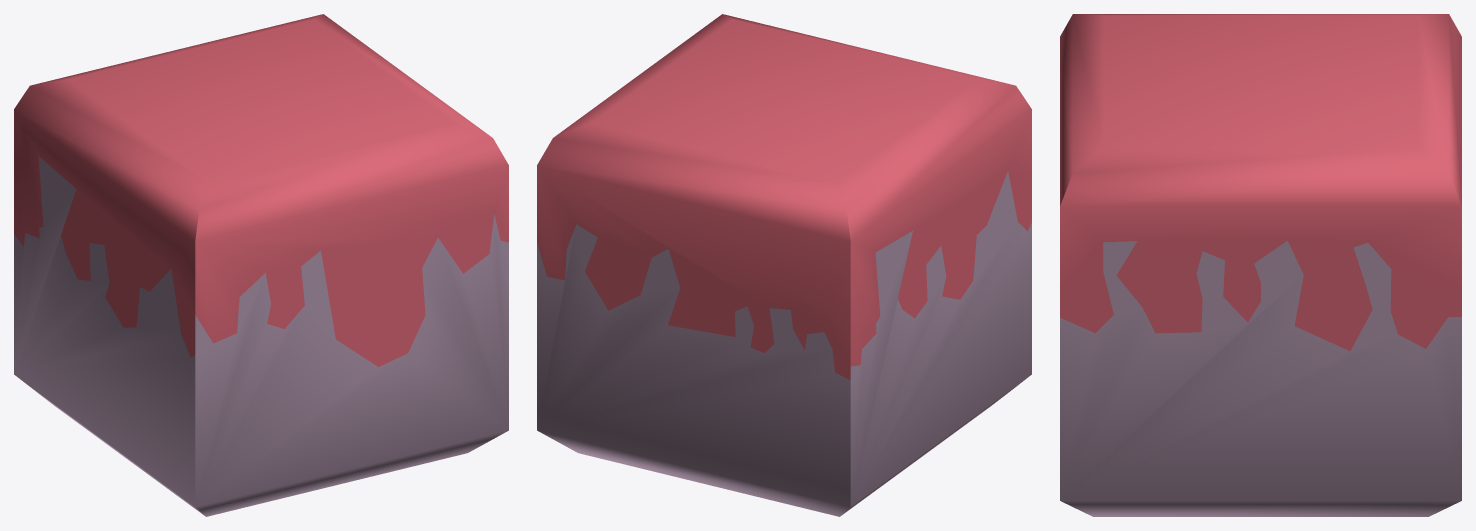
Rendered from 1basic_cube.fbx.
3 renders of one model, left to right at view 1: azimuth 30°, elevation 25°; view 2: azimuth 150°, elevation 25°; view 3: azimuth 270°, elevation 25°, orthographic. The views are drawn at different scales.
Parts seen in each view (by area): view 1: FIrst_Cube; view 2: FIrst_Cube; view 3: FIrst_Cube.
Boxes of the visible parts, x1,y1,x2,y2 form: FIrst_Cube: [14, 14, 508, 516]; FIrst_Cube: [537, 14, 1031, 516]; FIrst_Cube: [1060, 14, 1461, 516].
Size of the model in its own units: 100 by 100 by 100.
